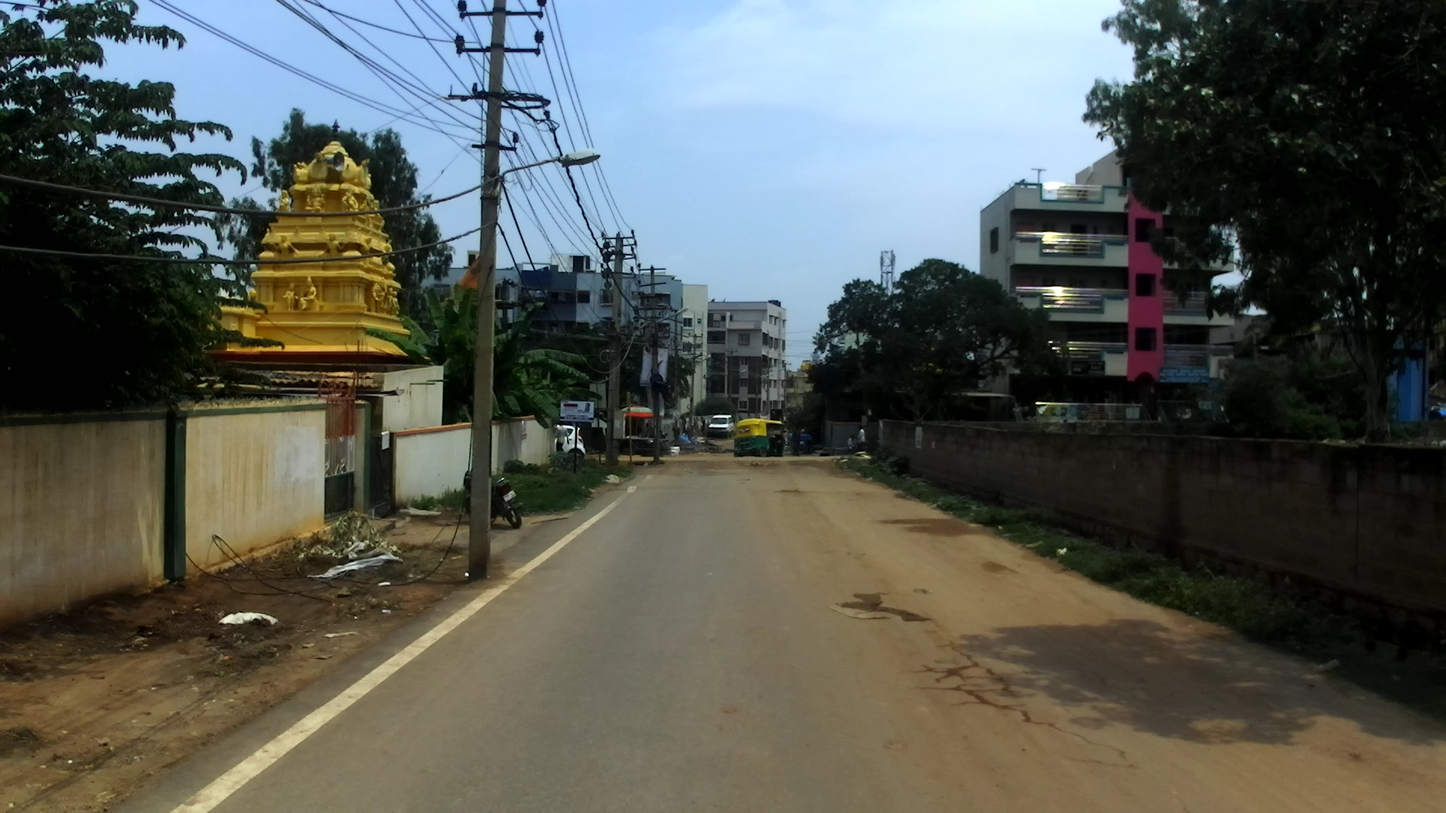autorickshaw: (734, 419, 786, 460)
car: (552, 422, 585, 457), (706, 414, 734, 436)
motorcycle: (460, 470, 526, 529)
person: (555, 422, 569, 454), (855, 422, 865, 446), (847, 434, 856, 452), (640, 421, 651, 434)
vehicle fallback: (949, 393, 1023, 423), (614, 433, 663, 456), (788, 433, 813, 455), (770, 408, 784, 420)
